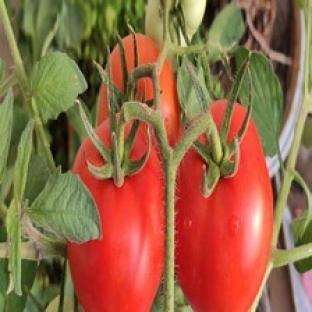Tomato: (176, 122, 272, 311), (67, 138, 164, 311), (159, 60, 179, 144)
